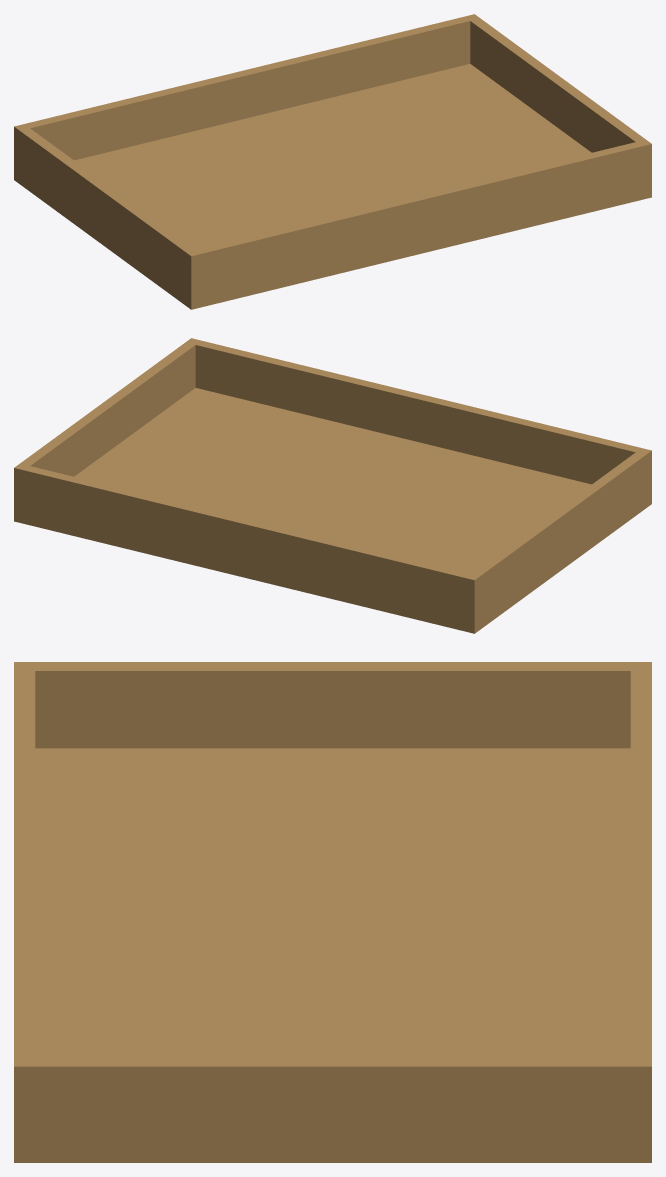
The model's file is SAB-TRY-std.glb.
3 views of the same model, one above another, from view 1: azimuth 30°, elevation 25°; view 2: azimuth 150°, elevation 25°; view 3: azimuth 270°, elevation 25° (orthographic). The views are drawn at different scales.
Visible parts, largest first — view 1: SAB-TRY-std; view 2: SAB-TRY-std; view 3: SAB-TRY-std.
Boxes of the visible parts, x1,y1,x2,y2 form: SAB-TRY-std: (14,14,651,309); SAB-TRY-std: (14,338,651,633); SAB-TRY-std: (14,662,651,1162).
Bounding box in the file's own units: 0.45 × 0.05 × 0.3.
